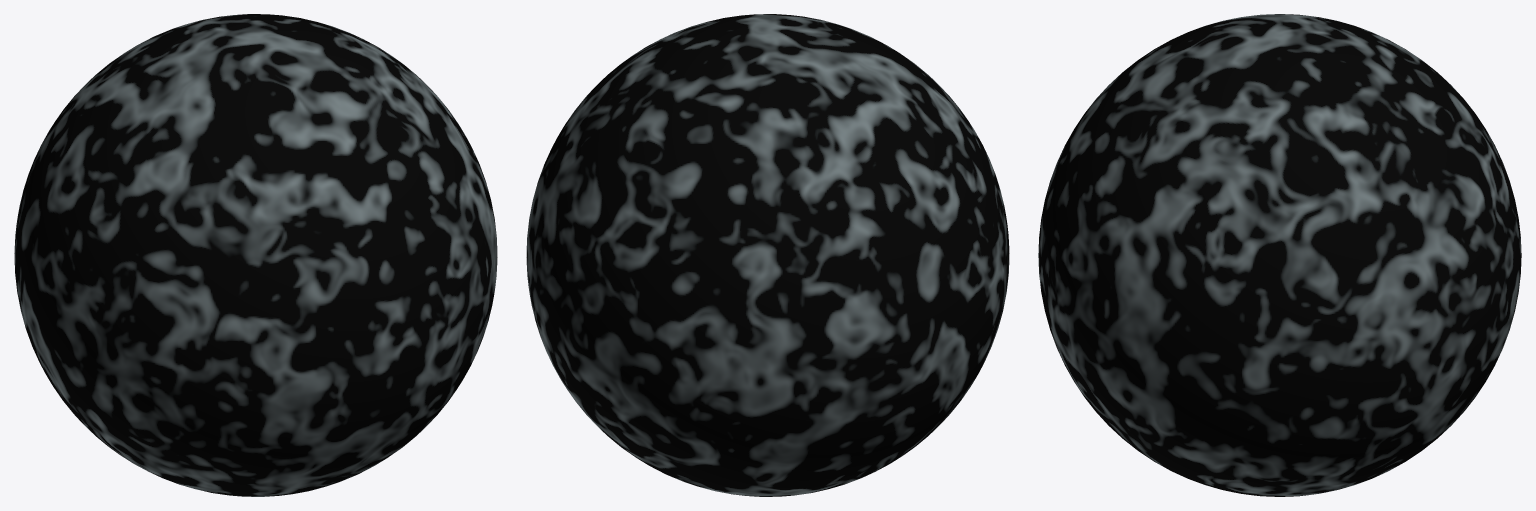
The model's file is milheart.glb.
3 views of the same model, side by side, from view 1: azimuth 30°, elevation 25°; view 2: azimuth 150°, elevation 25°; view 3: azimuth 270°, elevation 25° (orthographic).
Visible parts, largest first — view 1: Atmosphere; view 2: Atmosphere; view 3: Atmosphere.
Boxes of the visible parts, x1,y1,x2,y2 form: Atmosphere: (14,14,497,496); Atmosphere: (526,14,1009,496); Atmosphere: (1038,14,1521,496).
Size of the model in its own units: 2.11 by 2.11 by 2.11.
Materials: 2 (2 with a texture image).
